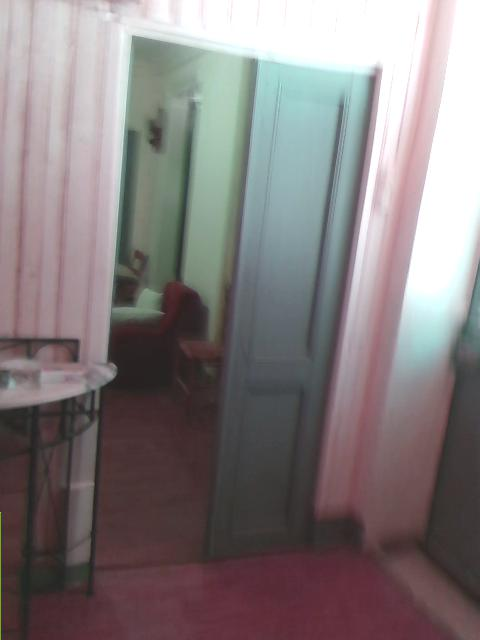open_door: (85, 20, 259, 572)
